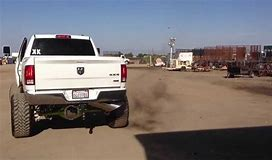smoke: (128, 77, 172, 129)
